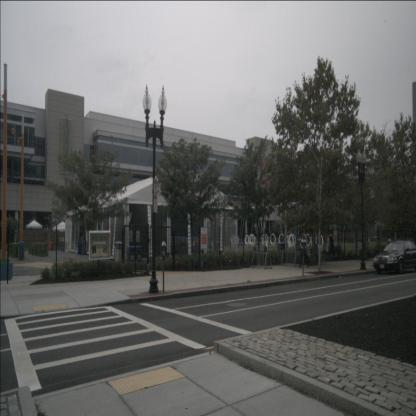human-pedestrian-adult: (299, 232, 309, 268)
vehicle-car: (372, 240, 416, 275)
